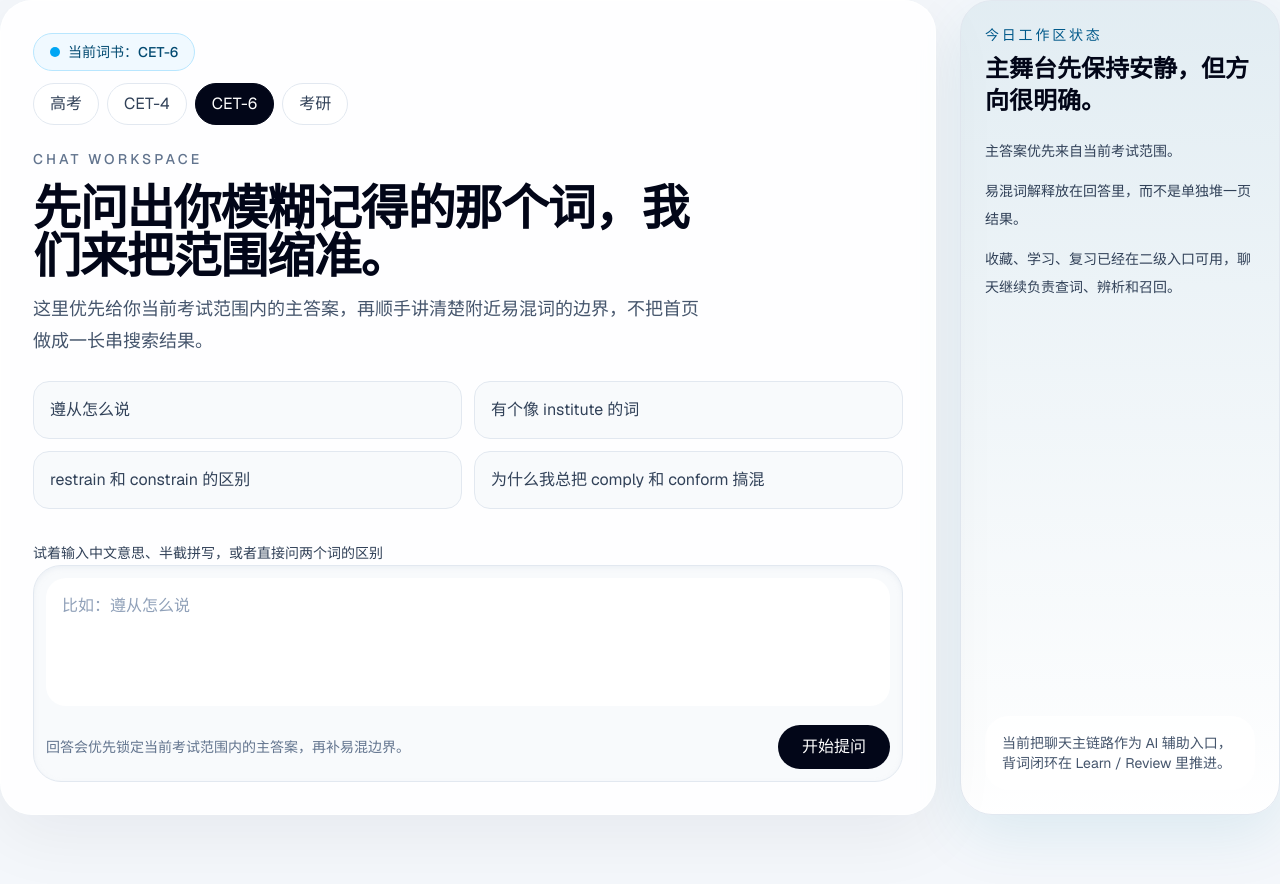
Scenario: ChatWorkspace › explains external dictionary lookup as a basic unreviewed definition
The width and height of the screenshot is (1280, 884).
Type "make up" into the text box with test id "chat-input" at (468, 642), box [46, 578, 890, 706]
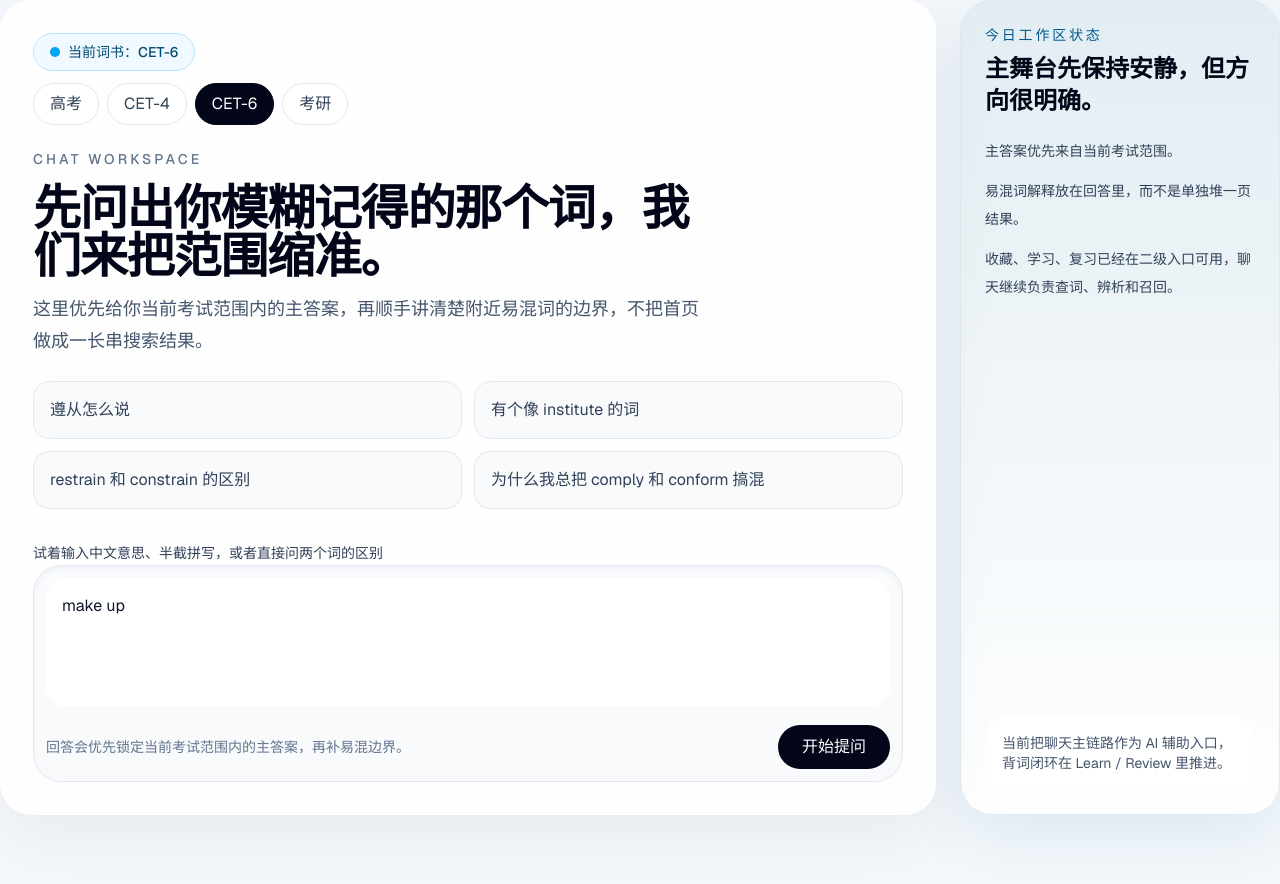
Click the button "开始提问" at (834, 747), box [778, 725, 890, 769]
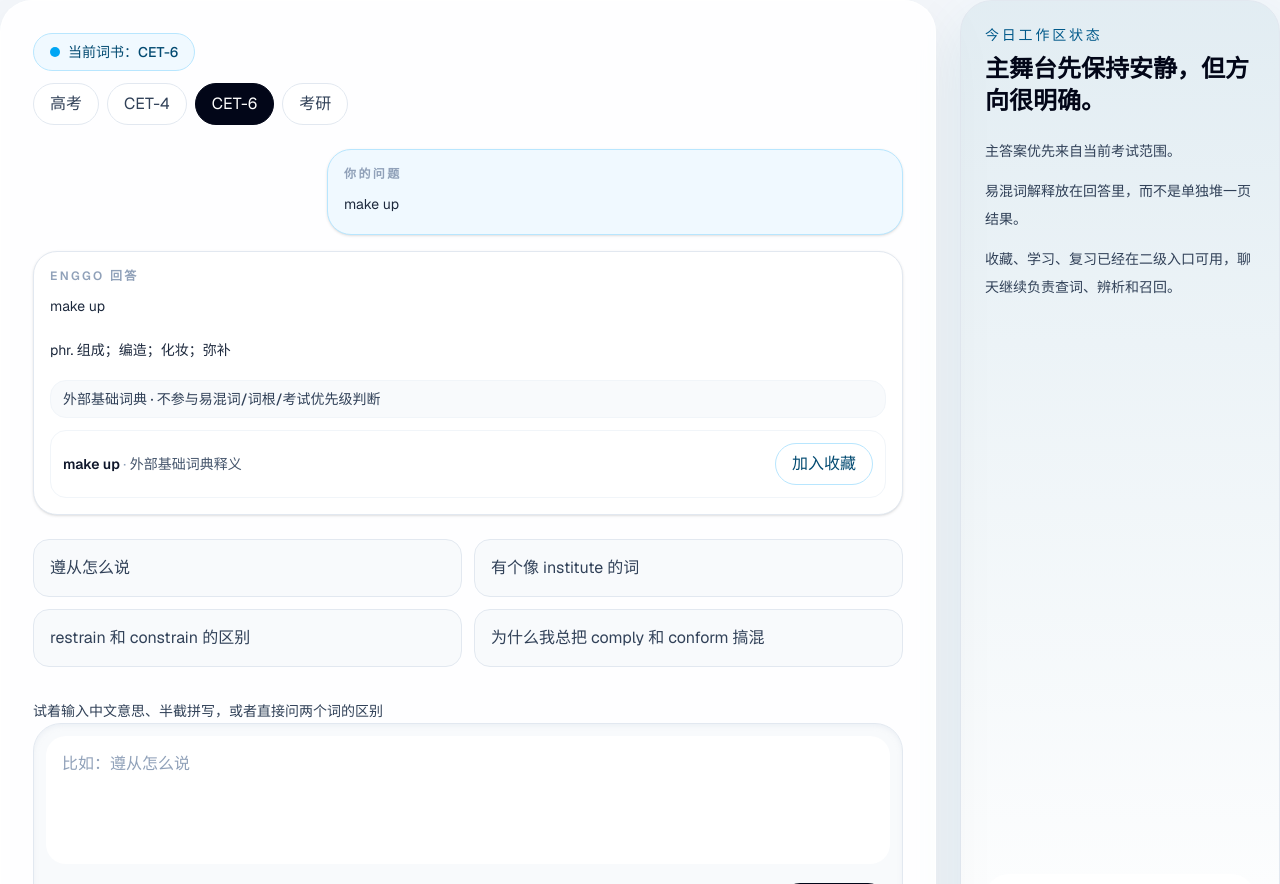
Expected: the text "外部基础词典 · 不参与易混词/词根/考试优先级判断" is shown, [50, 380, 886, 418]
